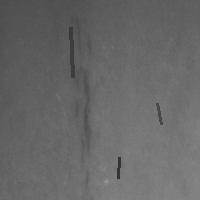inclusion: (67, 59, 97, 184), (72, 12, 94, 62), (68, 25, 74, 79), (155, 101, 163, 126), (116, 155, 121, 180)
